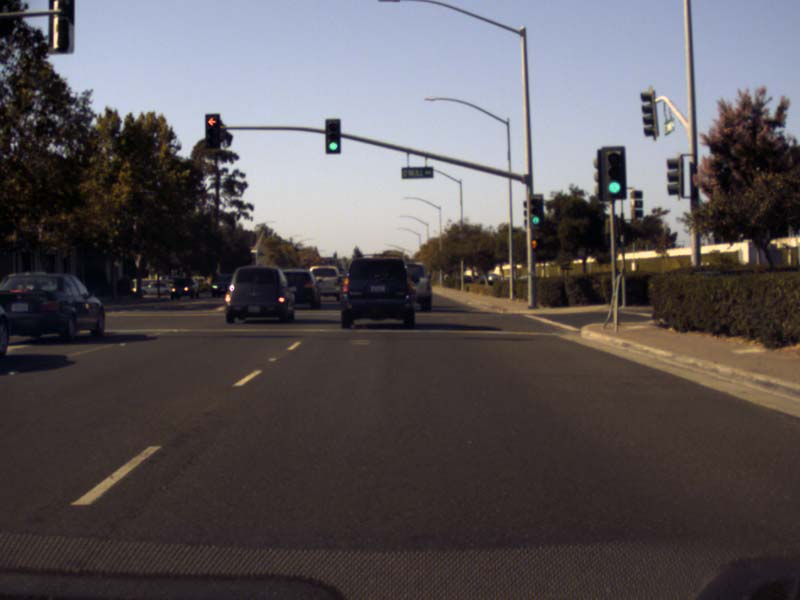Green: (601, 146, 626, 198), (325, 118, 339, 153), (529, 194, 543, 229)
Red: (204, 113, 219, 147)
